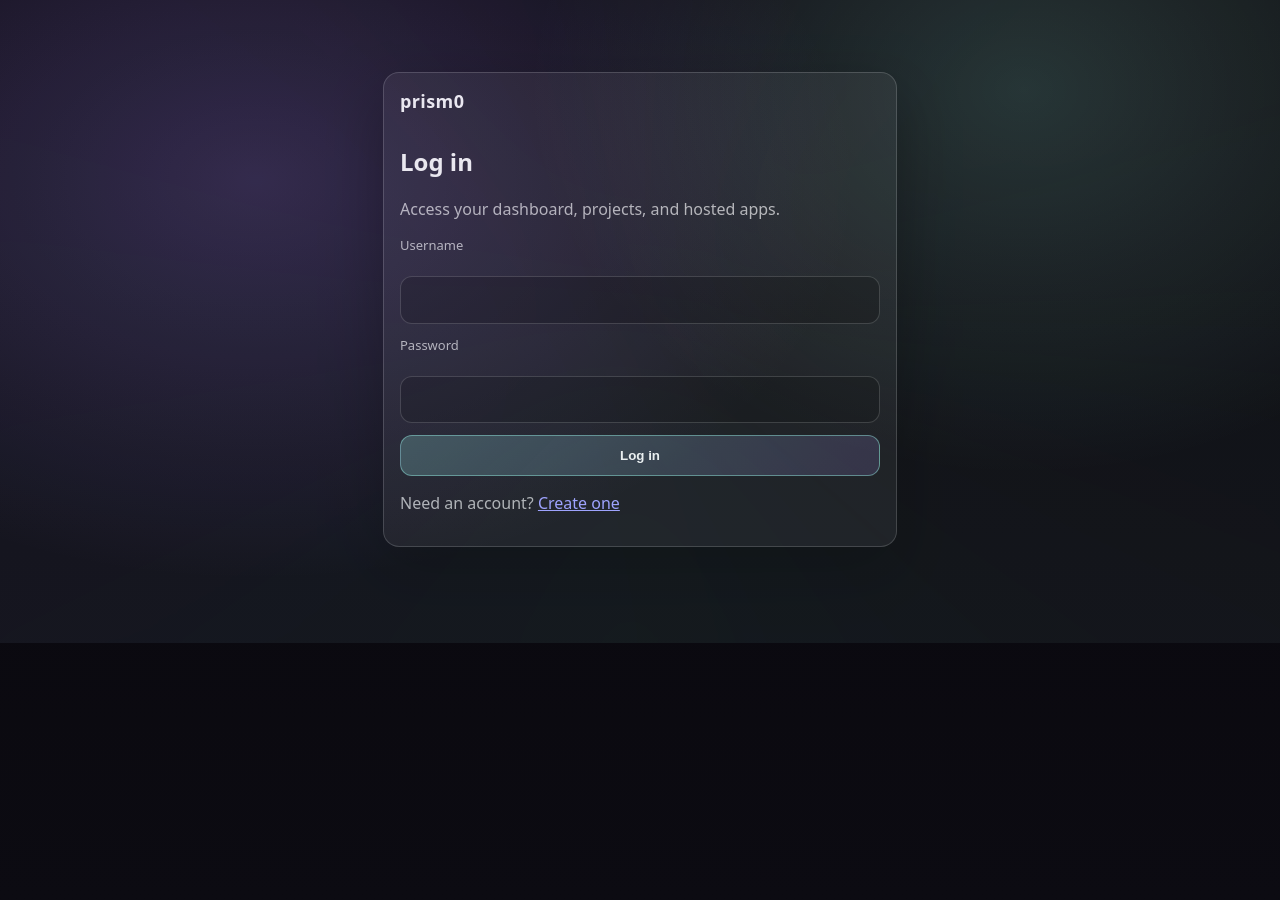
it: LoginPage › stringifies non-error failures
The width and height of the screenshot is (1280, 900).
In the field labelled "Username": {"x": 640, "y": 300} [400,276,880,324], type "bad"
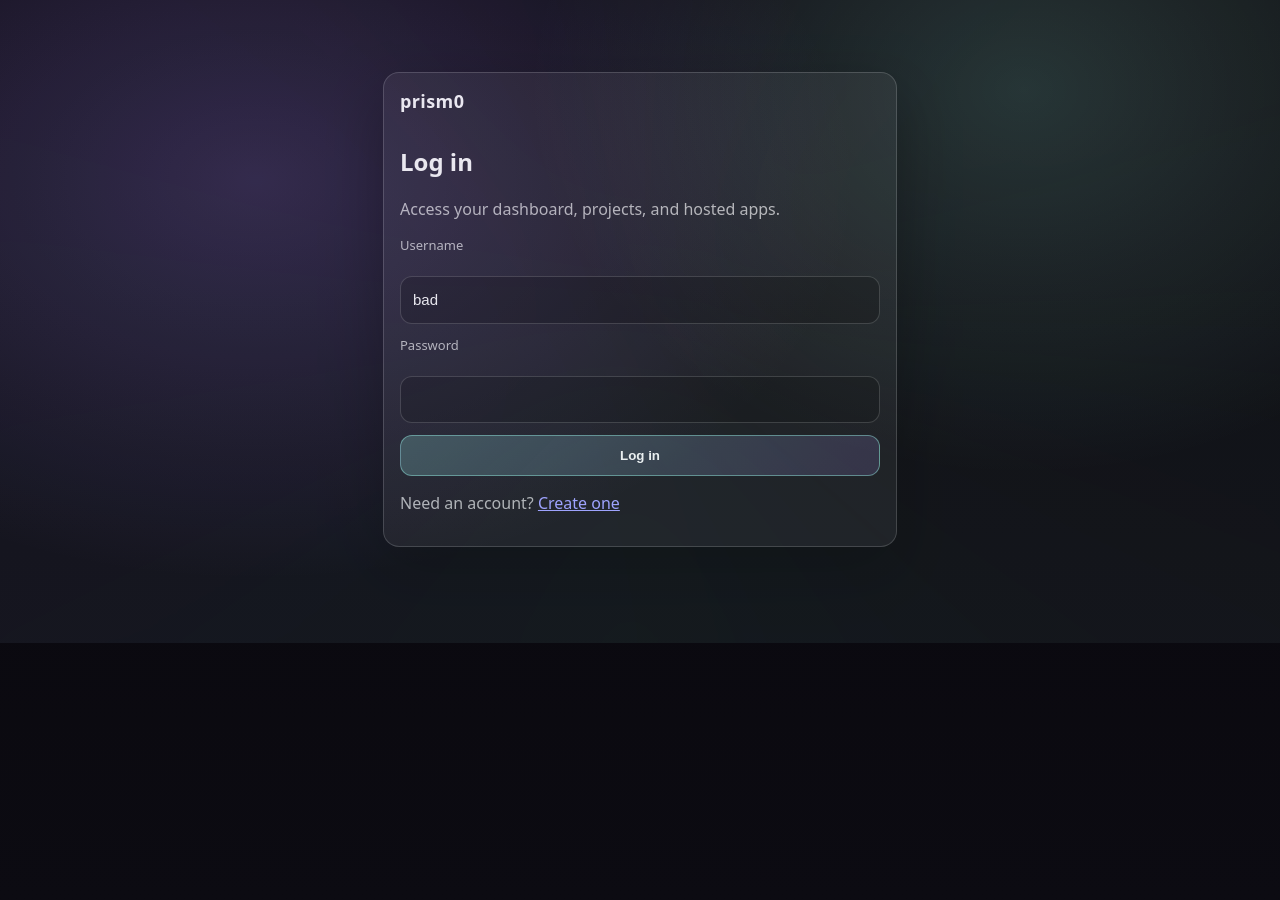
In the password field labelled "Password": {"x": 640, "y": 400} [400,376,880,423], type "wrong"
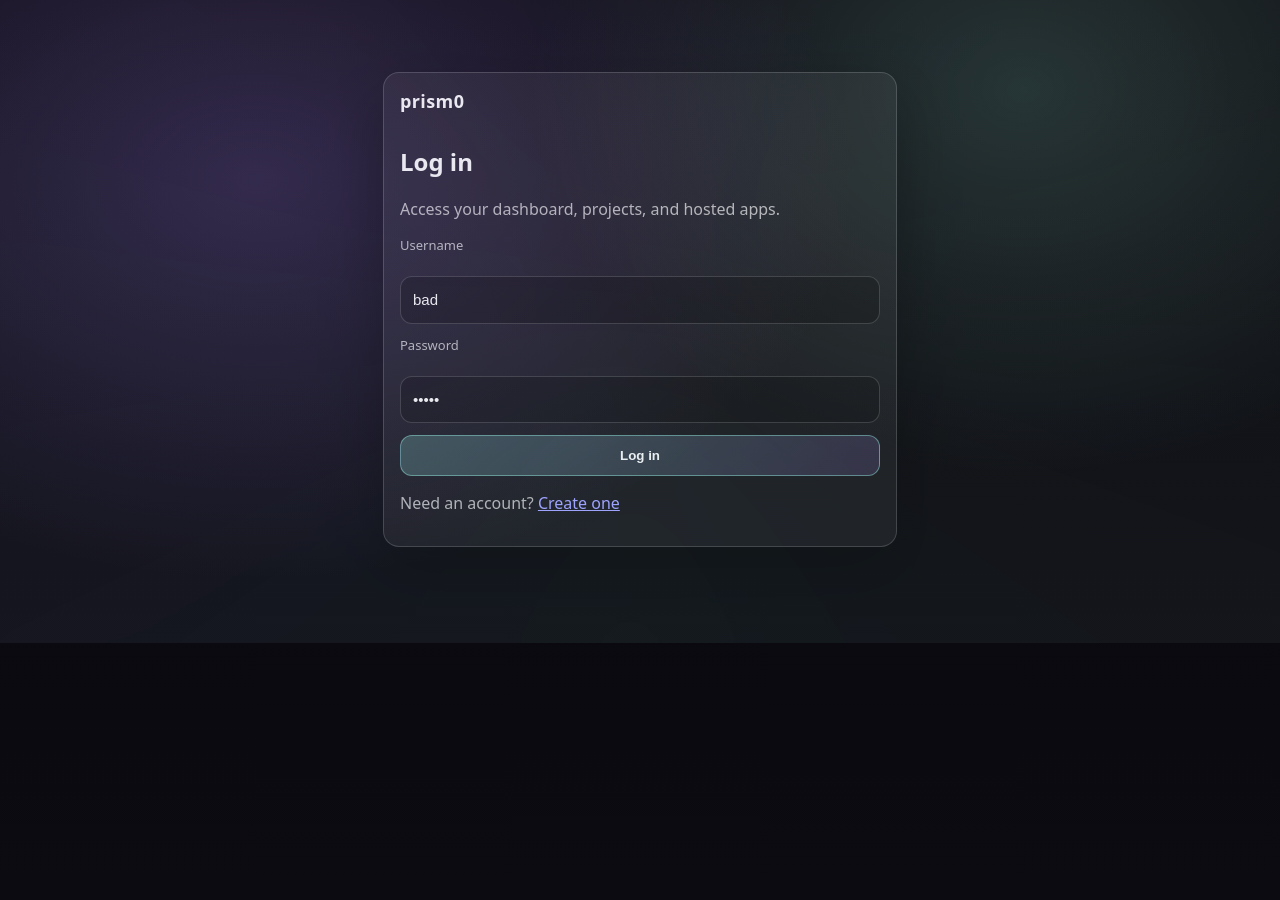
Click the button "Log in": {"x": 640, "y": 456} [400,435,880,476]
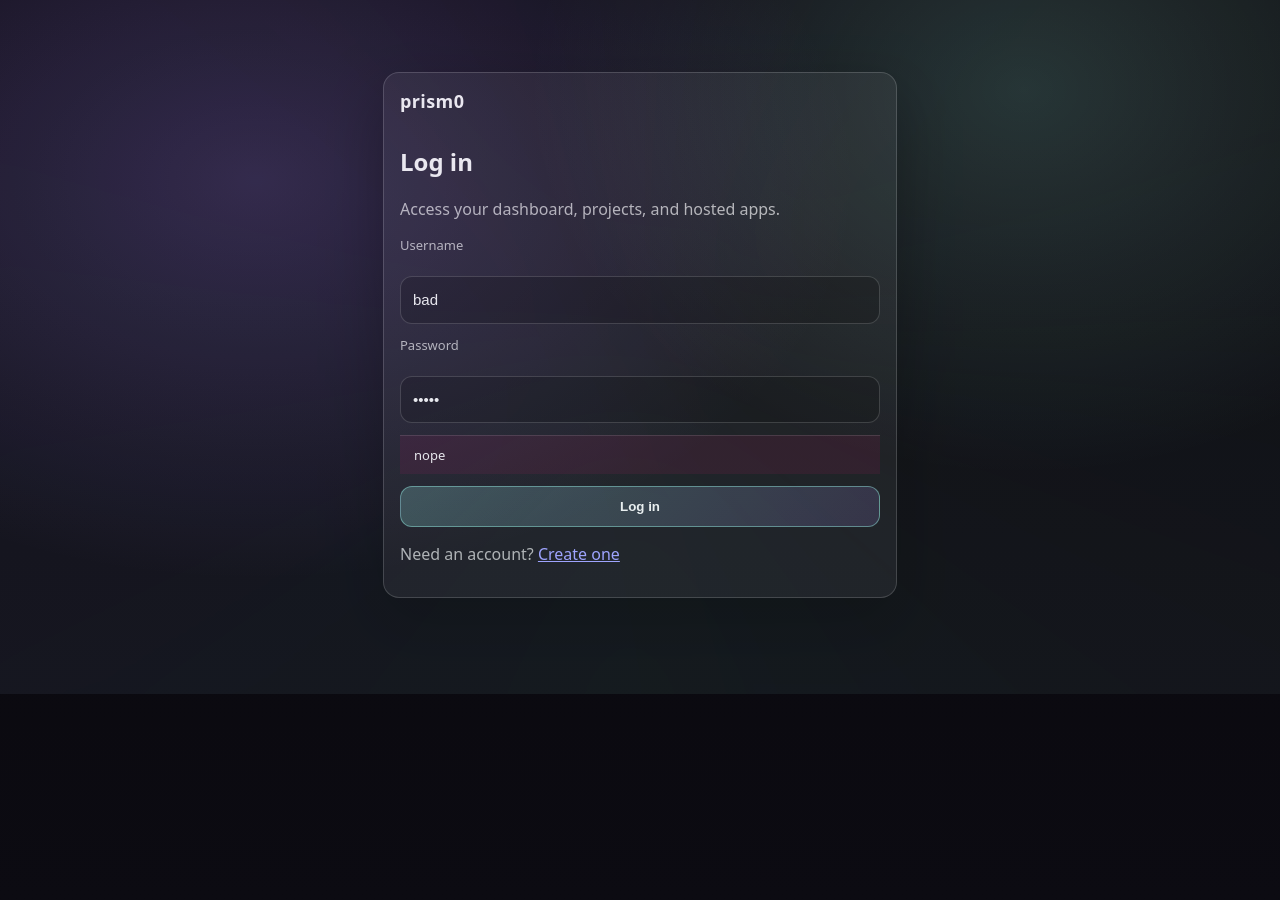
Check: the text "nope" is shown, box [400,435,880,474]
